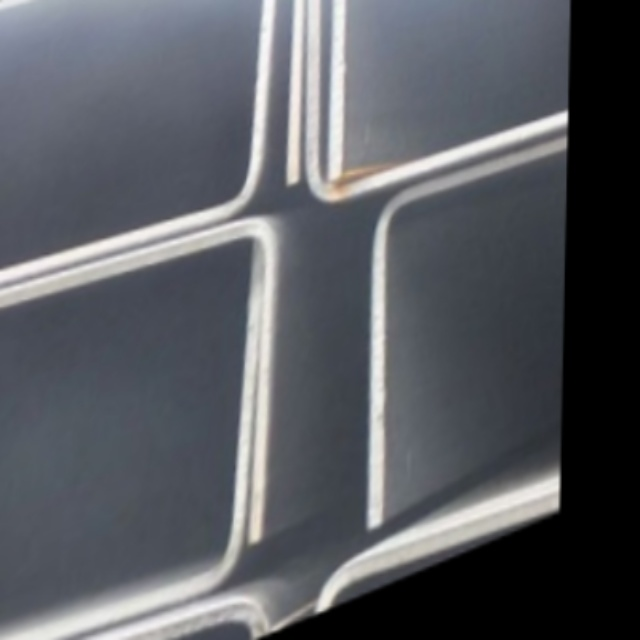Shveller: (0, 221, 292, 640), (0, 250, 281, 640), (339, 133, 568, 562), (0, 0, 321, 286), (0, 0, 297, 290), (280, 0, 572, 199), (307, 0, 572, 171), (0, 579, 262, 640), (0, 585, 259, 640)
